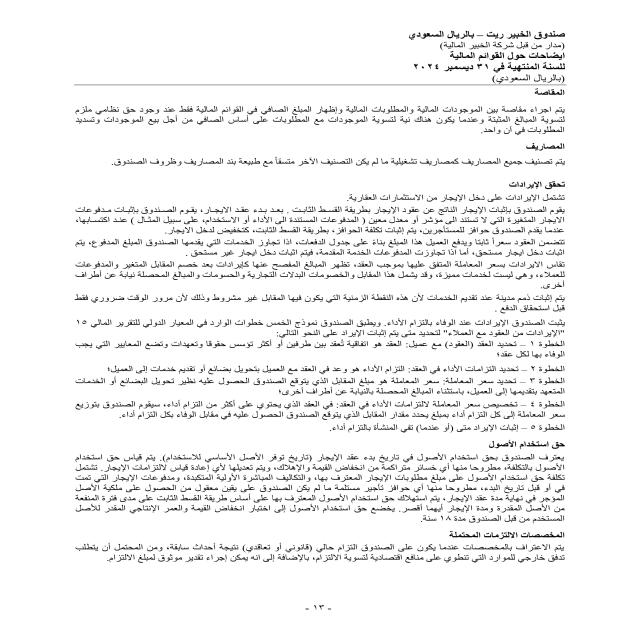notes: (438, 50, 570, 62)
text: (61, 102, 562, 580)
